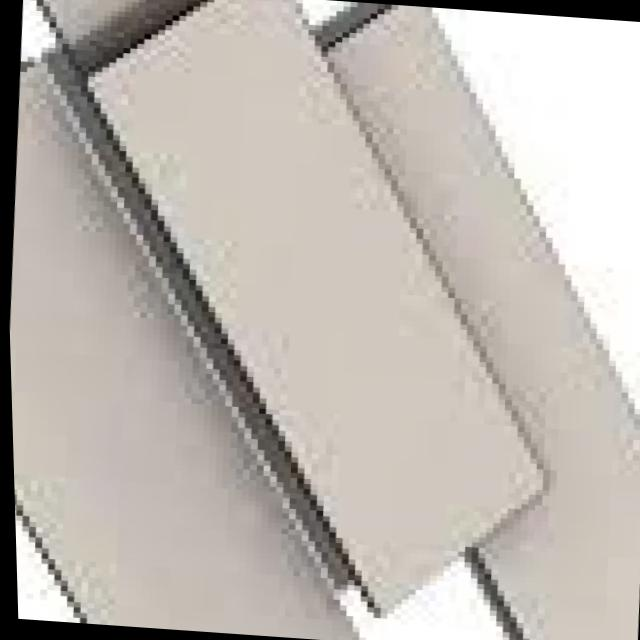metal-plates: (79, 1, 540, 619), (8, 57, 360, 640)
